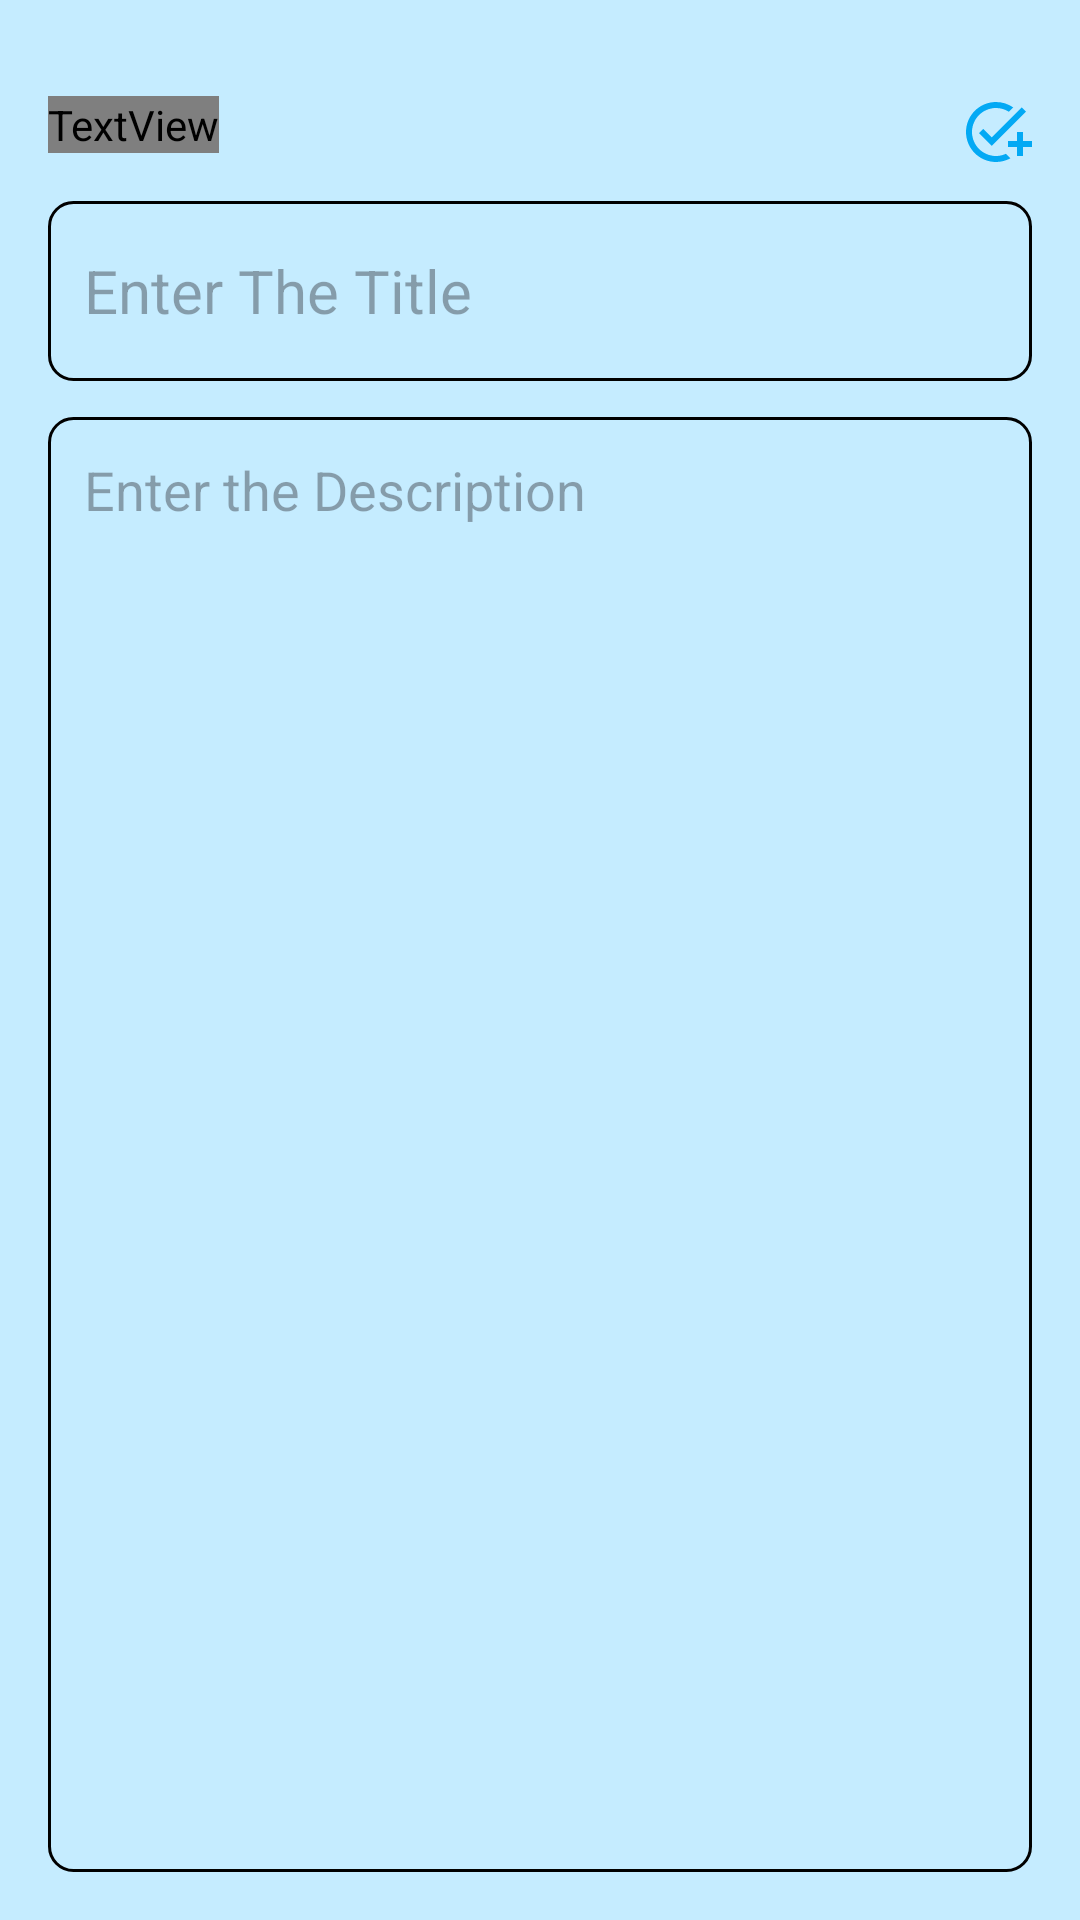

Icons on this 1080x1920 Android screen, each with its box as (x1, y1, x2, y2):
add task: (966, 102, 1032, 162)
